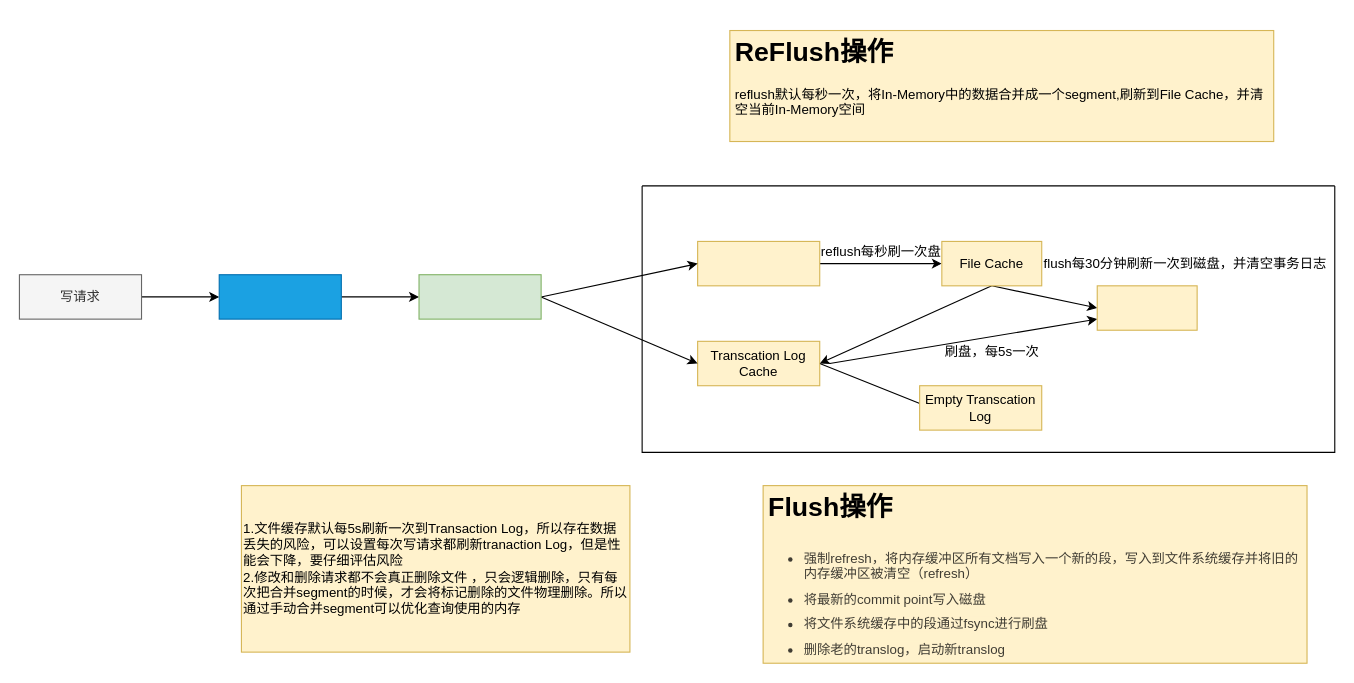
Image size: 1354x683. Some labels were removed from this diagram. Here are the shapes that lost their labels. From the top down, the box of each, then its label:
(697, 240, 820, 286): Memory Buffer
(218, 274, 341, 319): Coordination
(418, 274, 541, 319): Shard
(1096, 285, 1197, 330): Disk
